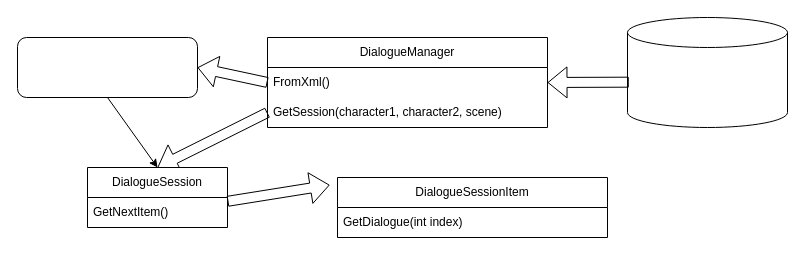
Image size: 805x255. Some labels were removed from this diagram. Here are the shapes that lost their labels. From the top down, the centre of each, then its label:
At point (107, 67): "DialogueSessionRepository".
At point (707, 72): "Dialogues.xml".
